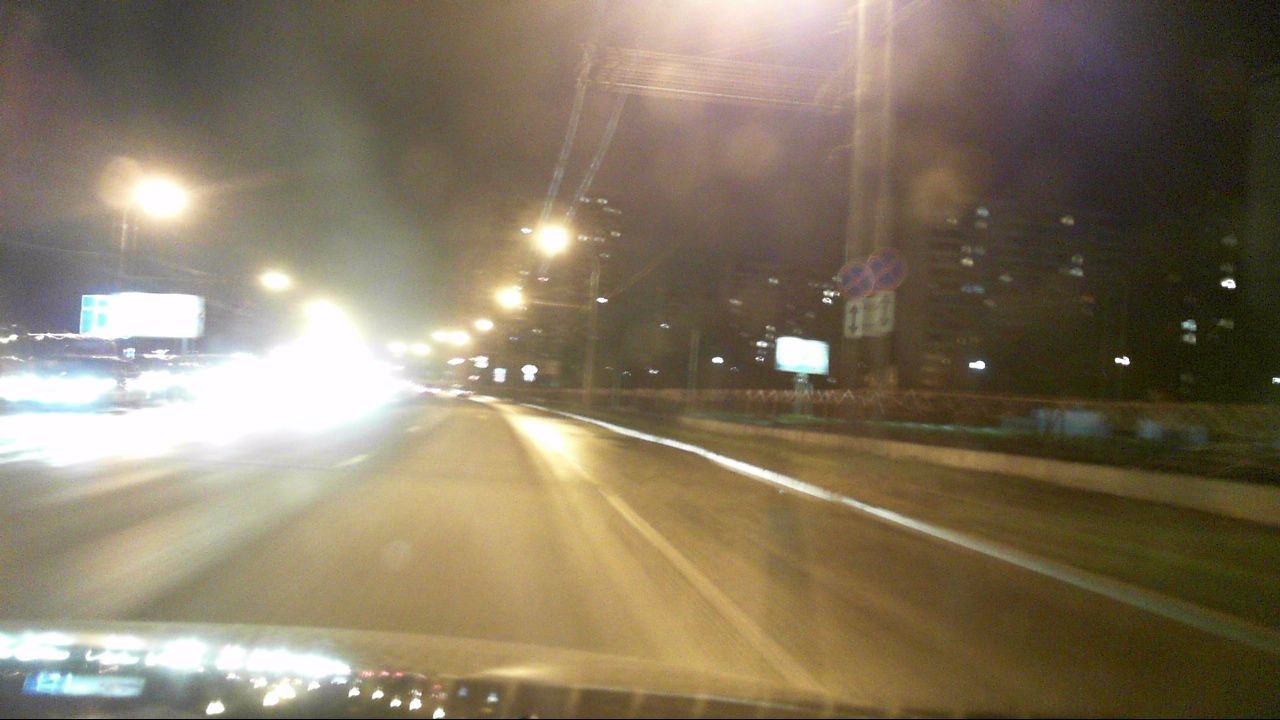No Parking: (836, 262, 874, 301)
